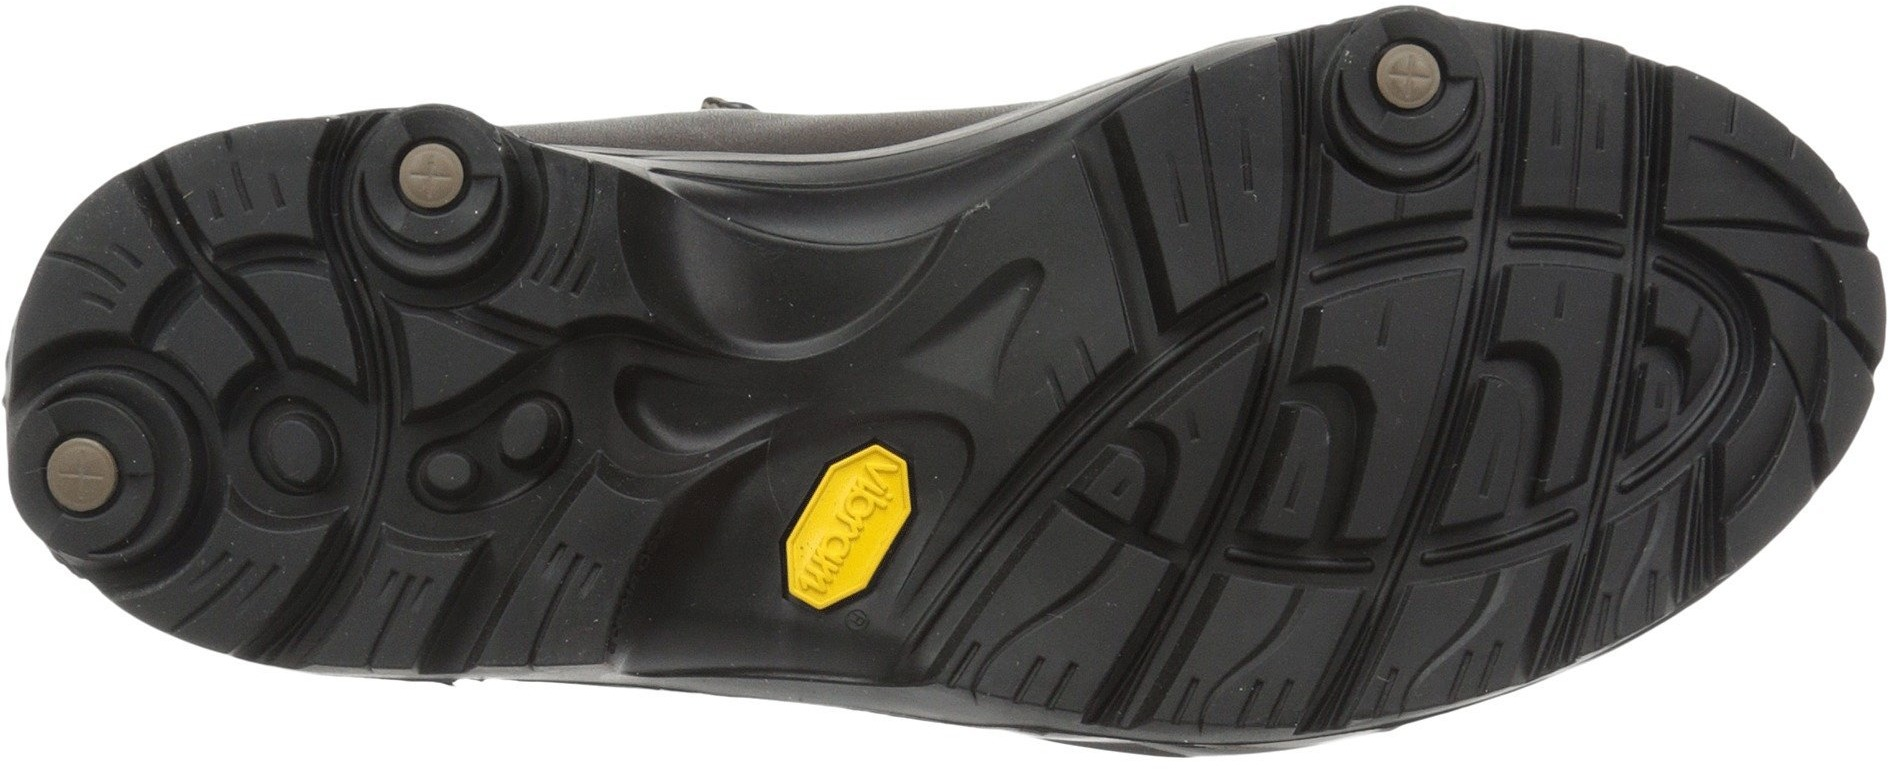circle: (355, 287, 581, 510), (354, 104, 534, 277), (245, 401, 359, 497)
other: (645, 557, 769, 656)
quad: (139, 297, 281, 421)
text: (802, 511, 870, 576), (848, 454, 904, 506)
triangle: (372, 290, 540, 430)
